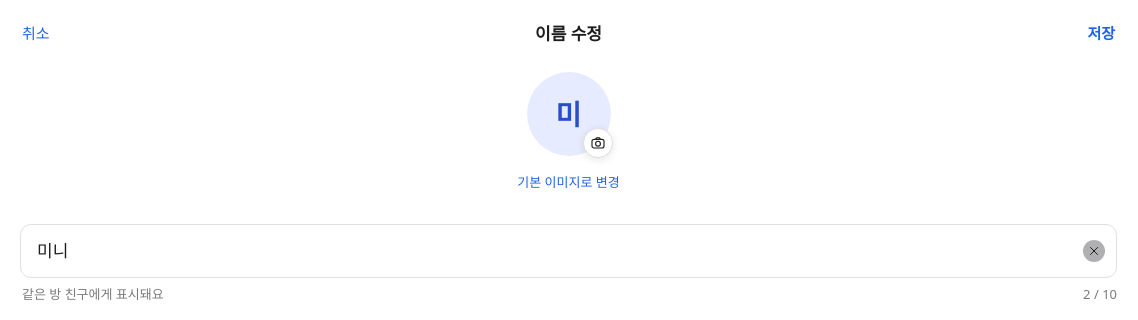
Test case: ProfileEditPage › 글자수 카운터를 보여준다
The image size is (1138, 320).
Expected: the text "2 / 10" is shown, top-left (1083, 286), bottom-right (1117, 304)
Step 1. Type "짱" into the field named "이름" → (568, 251), box top-left (20, 224), bottom-right (1117, 278)
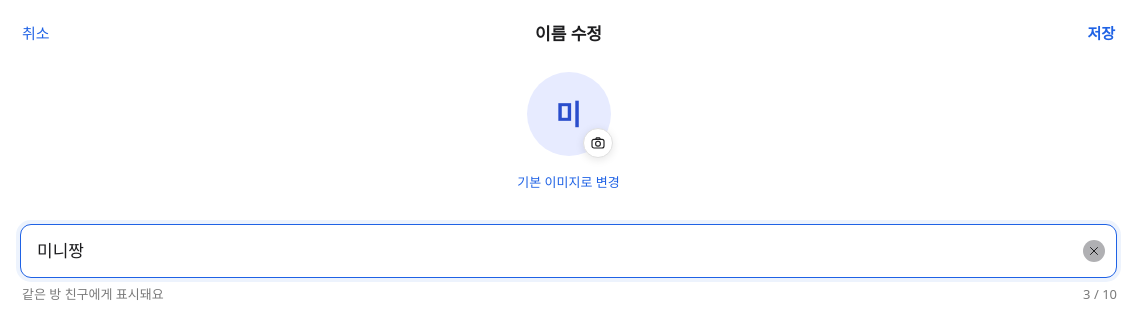
Result: the text "3 / 10" is shown at top-left (1083, 286), bottom-right (1117, 304)
